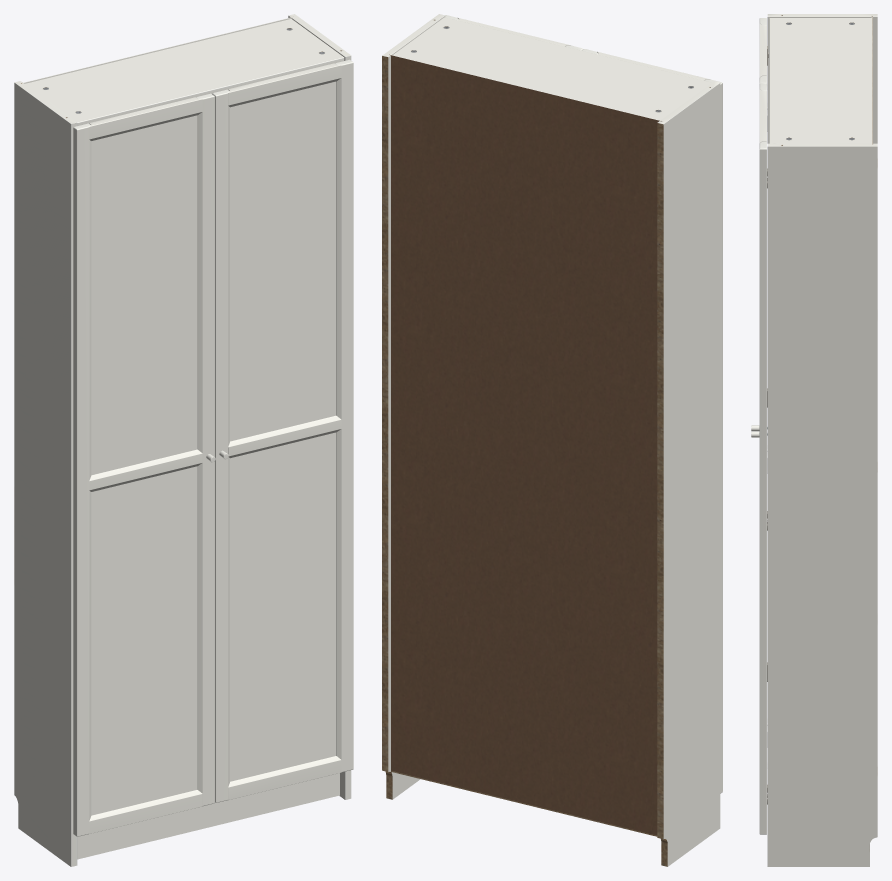
Rendered from billy_oxberg_rega_z_drzwiami_79287358.glb.
The picture shows the model from 3 angles, left to right: view 1: azimuth 30°, elevation 25°; view 2: azimuth 150°, elevation 25°; view 3: azimuth 270°, elevation 25°; orthographic projection. The views are drawn at different scales.
Visible parts, largest first — view 1: billy_oxberg_rega_z_drzwiami_79287358; view 2: billy_oxberg_rega_z_drzwiami_79287358; view 3: billy_oxberg_rega_z_drzwiami_79287358.
Boxes of the visible parts, bbox=[...] form: billy_oxberg_rega_z_drzwiami_79287358: bbox=[14, 14, 353, 866]; billy_oxberg_rega_z_drzwiami_79287358: bbox=[382, 14, 722, 866]; billy_oxberg_rega_z_drzwiami_79287358: bbox=[751, 14, 877, 866].
Bounding box in the file's own units: 0.798 × 2.02 × 0.3213.
Materials: 2 (2 with a texture image).
